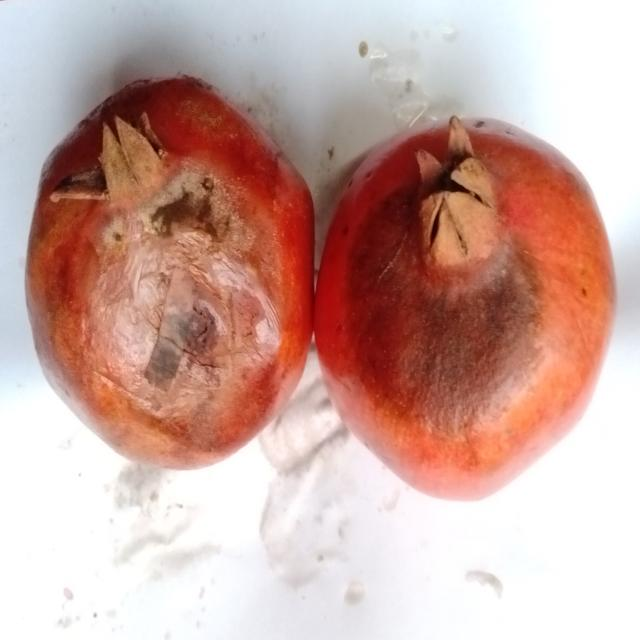Rotten: (21, 66, 316, 475), (323, 104, 621, 498)
